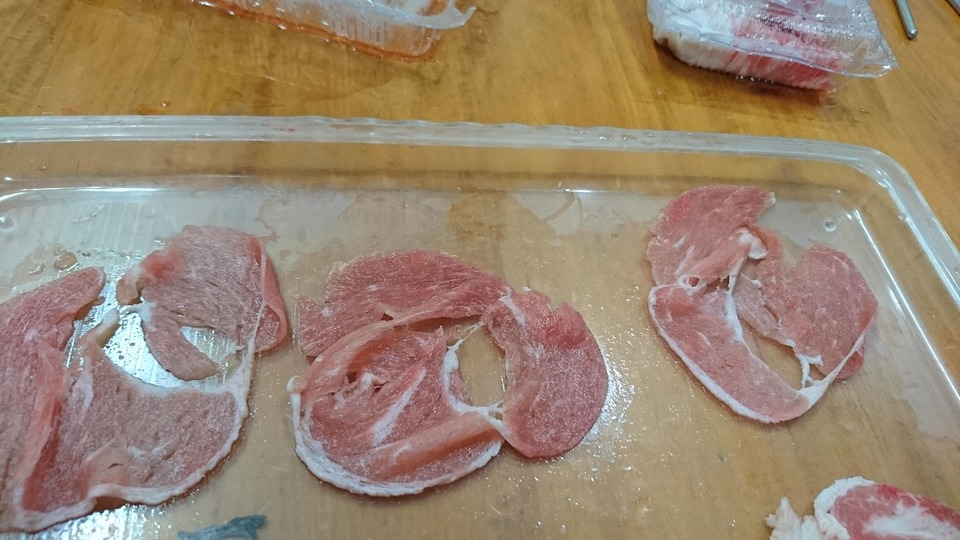restructured meat: (2, 242, 290, 529), (293, 239, 618, 485), (625, 178, 880, 422), (764, 448, 957, 540)
